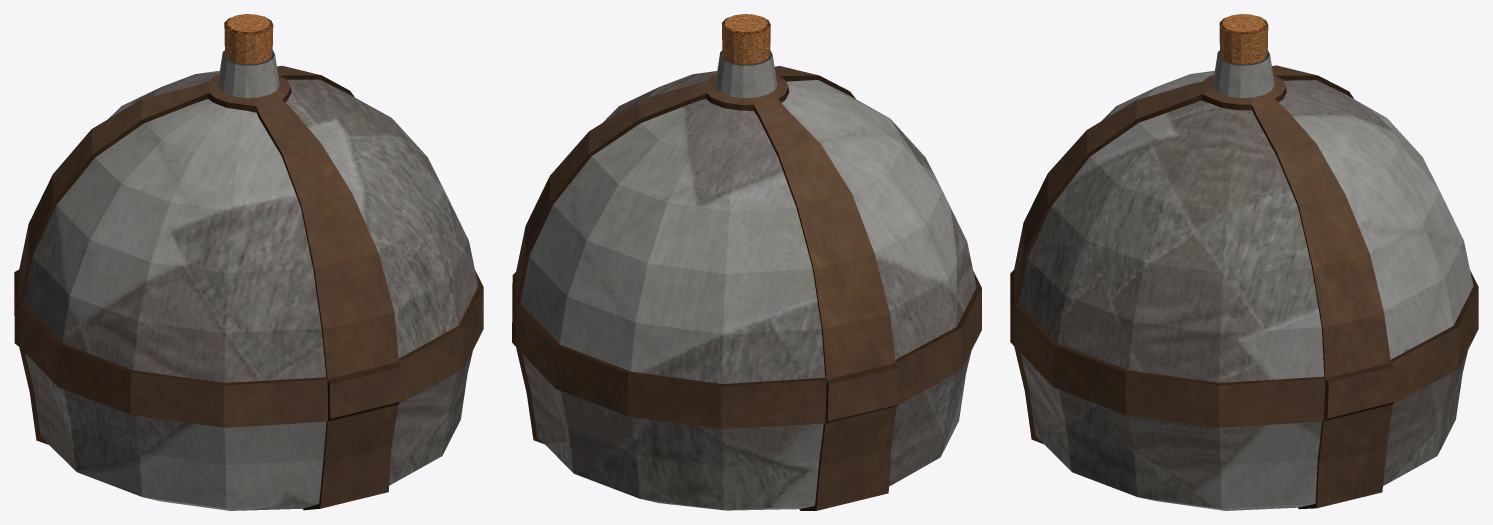
File: WorldItem_LargeWaterskin.fbx
3 views of the same model, side by side, from view 1: azimuth 30°, elevation 25°; view 2: azimuth 150°, elevation 25°; view 3: azimuth 270°, elevation 25° (orthographic).
Visible parts, largest first — view 1: ZomboidLargeWaterskin; view 2: ZomboidLargeWaterskin; view 3: ZomboidLargeWaterskin.
Part boxes in pixels (x1=…): ZomboidLargeWaterskin: x1=14, y1=14, x2=483, y2=510; ZomboidLargeWaterskin: x1=512, y1=14, x2=981, y2=510; ZomboidLargeWaterskin: x1=1010, y1=14, x2=1478, y2=510.
Bounding box in the file's own units: 0.1657 × 0.1625 × 0.166.
